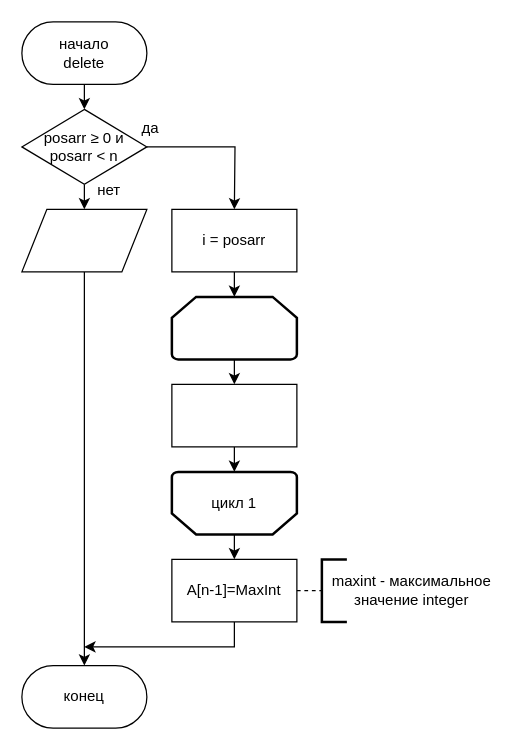
Some shapes in this 519 by 750 pixel diagram are drawn without their labels. The centre of each missing label's shape, as x and y in pixels:
"A[i]=A[i+1] i = i + 1" belongs at point 234,415.
"Вывод: Неверная позиция для удаления" belongs at point 84,240.
"цикл 1 i = n-2" belongs at point 234,327.
